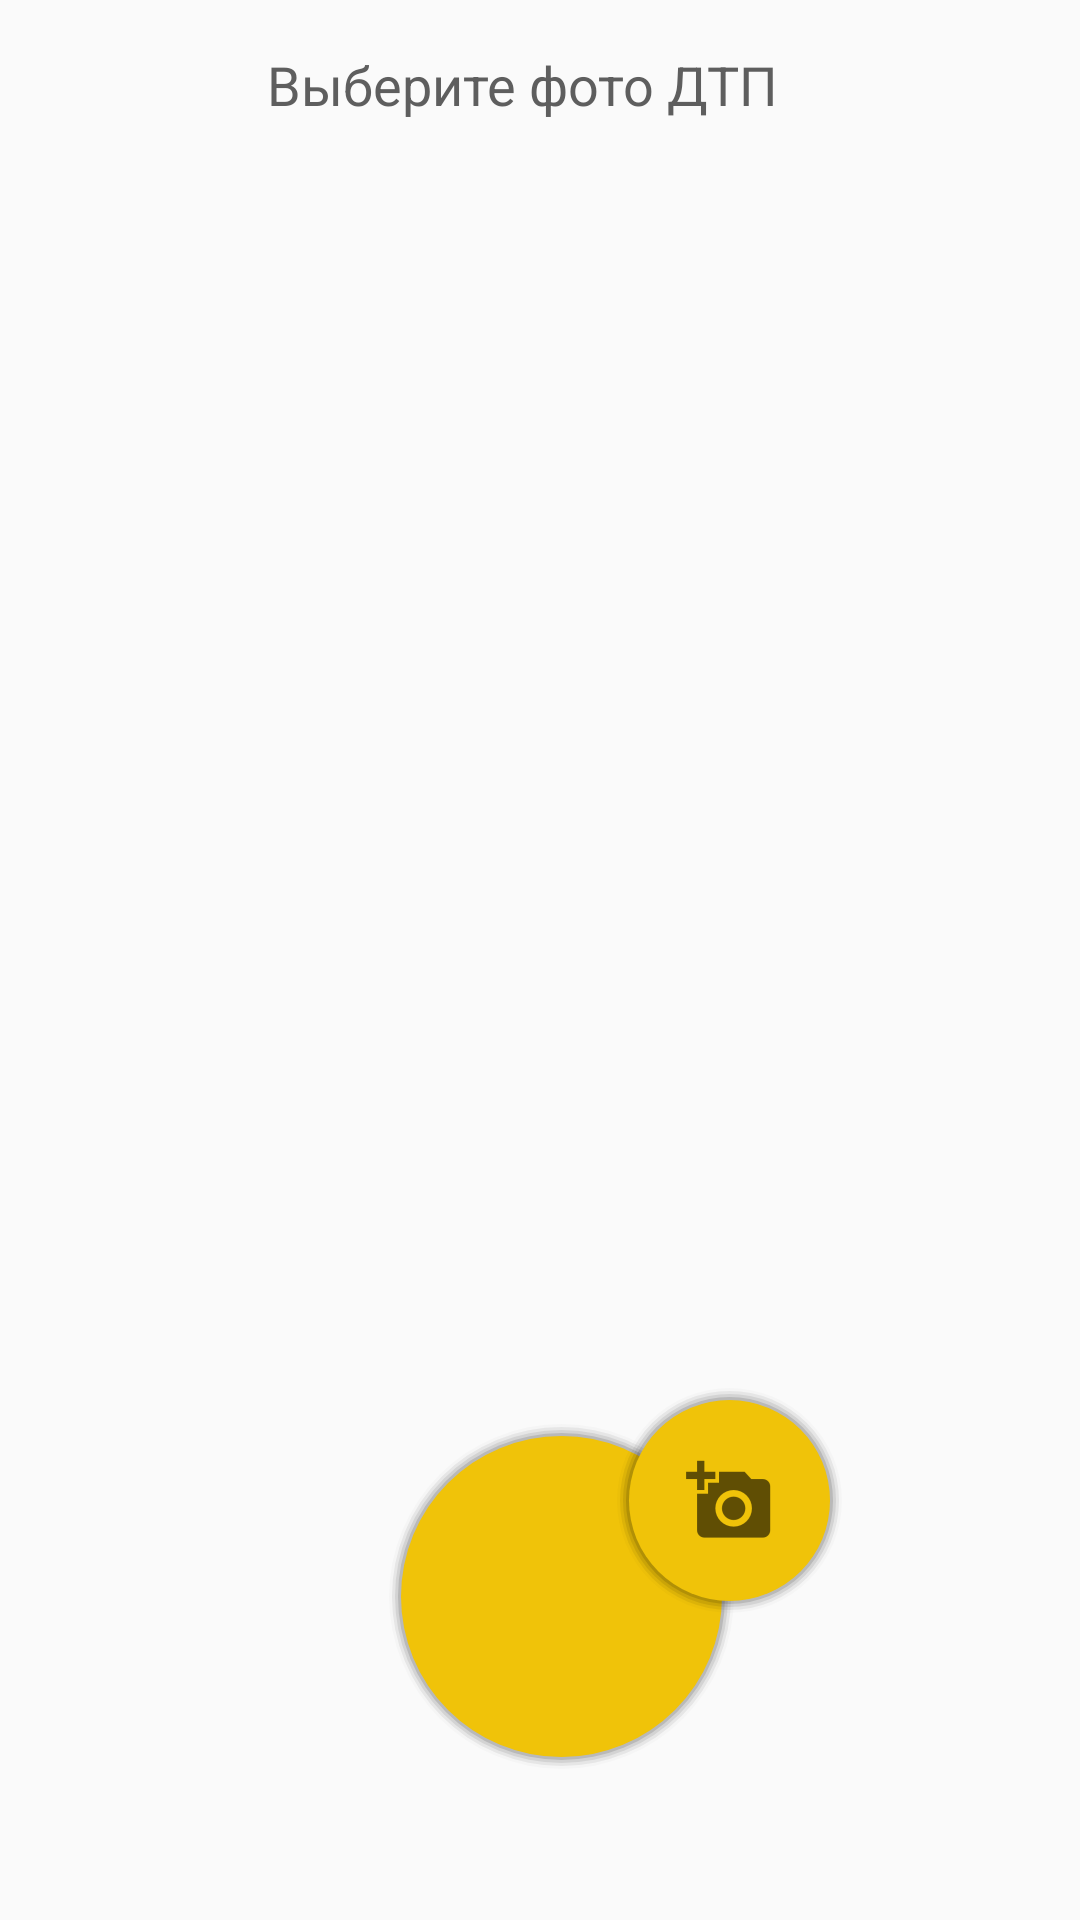

Where icons sit on this 1080×1920 app screen, as (x1, y1, x2, y2):
add photo: (617, 1394, 836, 1613)
